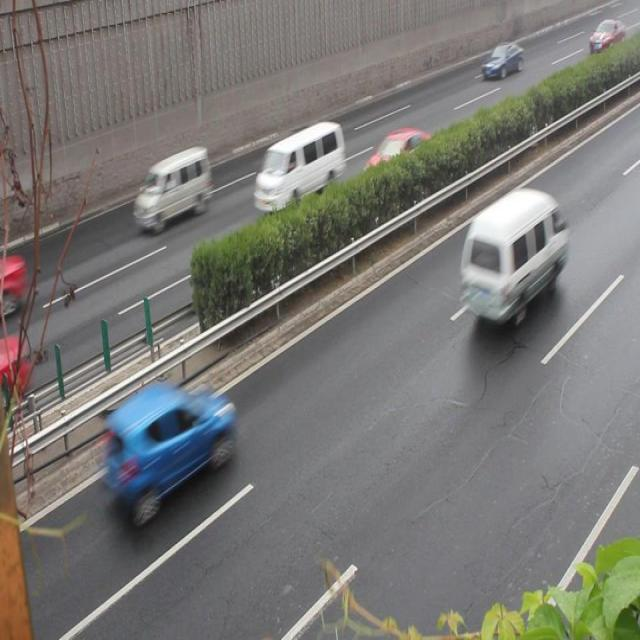car: (105, 380, 234, 520), (360, 127, 432, 195), (481, 42, 522, 80)
truck: (458, 188, 567, 323), (253, 120, 345, 214), (134, 144, 210, 228)
